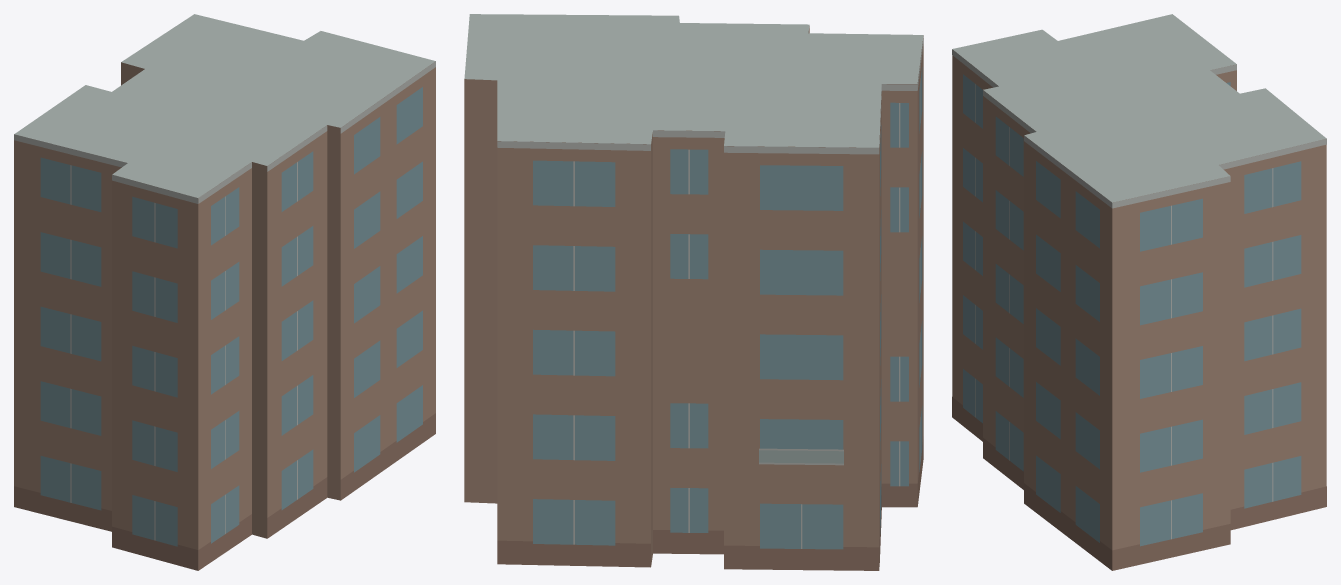
The model's file is survey-upis-33026382.glb.
3 renders of one model, left to right at view 1: azimuth 30°, elevation 25°; view 2: azimuth 150°, elevation 25°; view 3: azimuth 270°, elevation 25°, orthographic. The views are drawn at different scales.
Parts seen in each view (by area): view 1: survey-upis-33026382.tmp; view 2: survey-upis-33026382.tmp; view 3: survey-upis-33026382.tmp.
Part boxes in pixels (bbox=[...]): survey-upis-33026382.tmp: bbox=[14, 14, 435, 570]; survey-upis-33026382.tmp: bbox=[464, 14, 923, 570]; survey-upis-33026382.tmp: bbox=[952, 14, 1326, 570].
Size of the model in its own units: 16.76 by 15.25 by 14.07.
